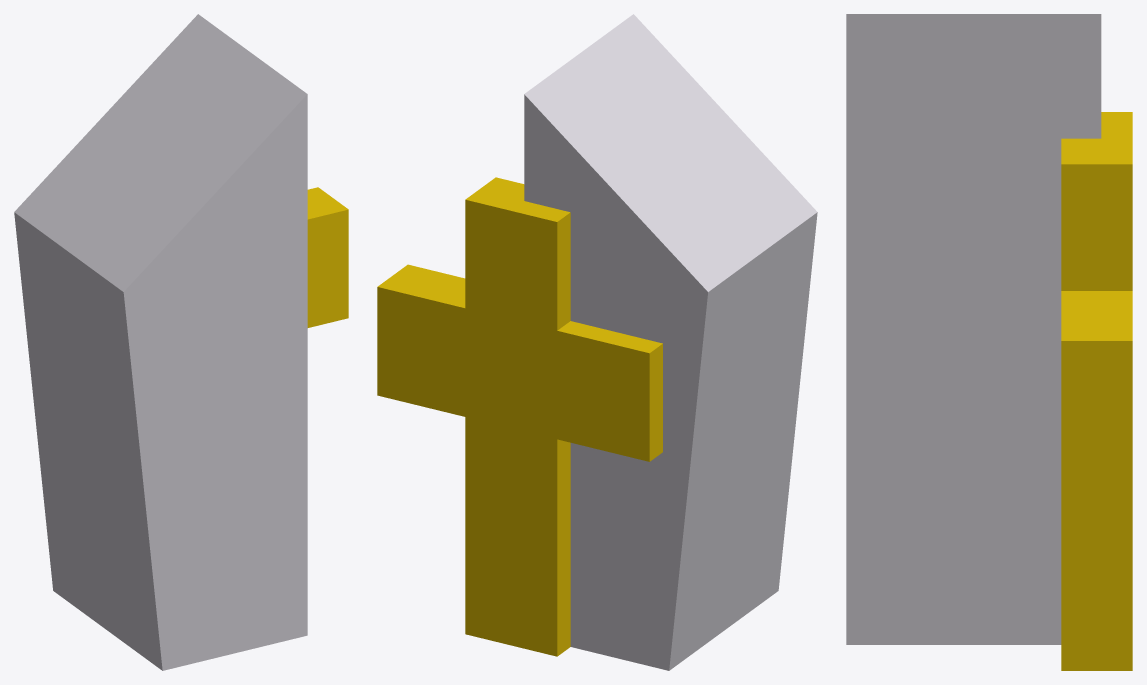
Rendered from Popehat.glb.
3 renders of one model, left to right at view 1: azimuth 30°, elevation 25°; view 2: azimuth 150°, elevation 25°; view 3: azimuth 270°, elevation 25°, orthographic. The views are drawn at different scales.
Visible parts, largest first — view 1: Cube, Cube.001; view 2: Cube, Cube.001; view 3: Cube, Cube.001.
Part boxes in pixels (x1=…): Cube: x1=14, y1=14, x2=307, y2=670; Cube.001: x1=307, y1=187, x2=348, y2=327; Cube: x1=524, y1=14, x2=817, y2=670; Cube.001: x1=377, y1=177, x2=662, y2=656; Cube: x1=846, y1=14, x2=1101, y2=644; Cube.001: x1=1061, y1=112, x2=1132, y2=670.
Size of the model in its own units: 3.45 by 5.62 by 2.31.
